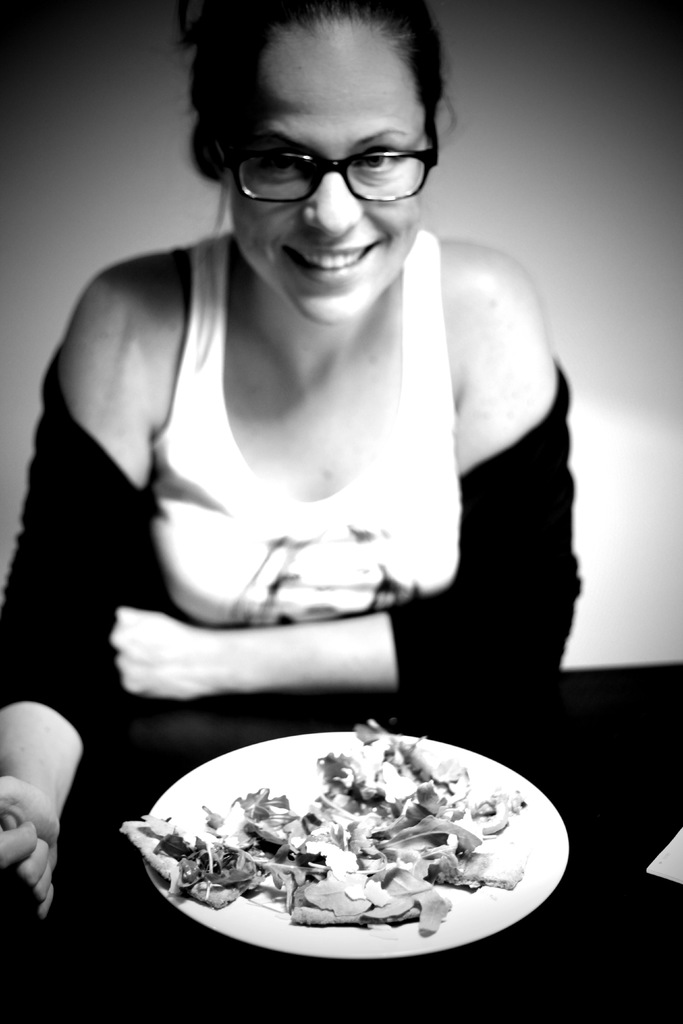Pizza: (123, 714, 551, 929)
